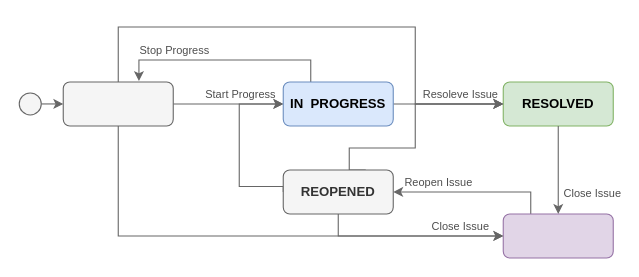
This 639x277 diagram has some shape labels left out. Each missing label, with the box of its shape:
CLODED: (502, 213, 613, 258)
OPEN: (62, 81, 173, 126)
